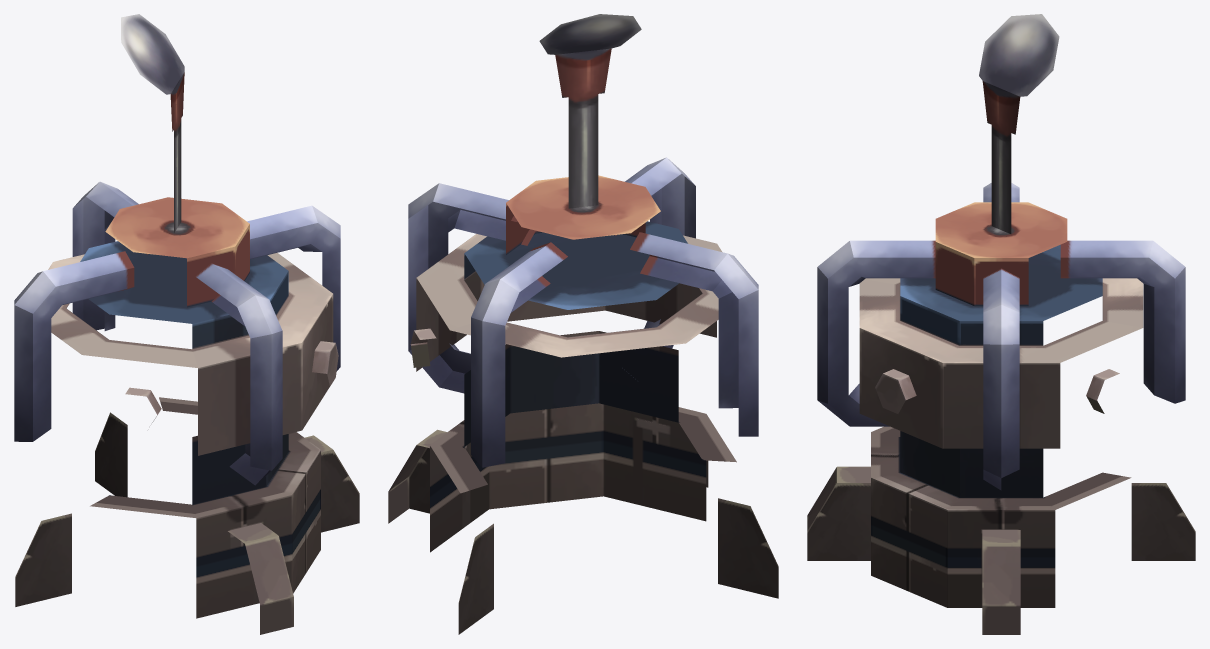
The model's file is B_Lightningtower03.fbx.
3 views of the same model, side by side, from view 1: azimuth 30°, elevation 25°; view 2: azimuth 150°, elevation 25°; view 3: azimuth 270°, elevation 25° (orthographic). The views are drawn at different scales.
Visible parts, largest first — view 1: B_Lightningtower03_01; view 2: B_Lightningtower03_01; view 3: B_Lightningtower03_01.
Part boxes in pixels (box(x1,y1,x2,y2)): B_Lightningtower03_01: box(14, 14, 359, 634); B_Lightningtower03_01: box(388, 14, 778, 634); B_Lightningtower03_01: box(807, 14, 1195, 634).
Bounding box in the file's own units: 3.9 × 5.79 × 3.9.
Materials: 1 (1 with a texture image).
